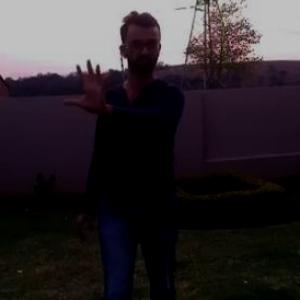follow_hand: (60, 56, 114, 114)
